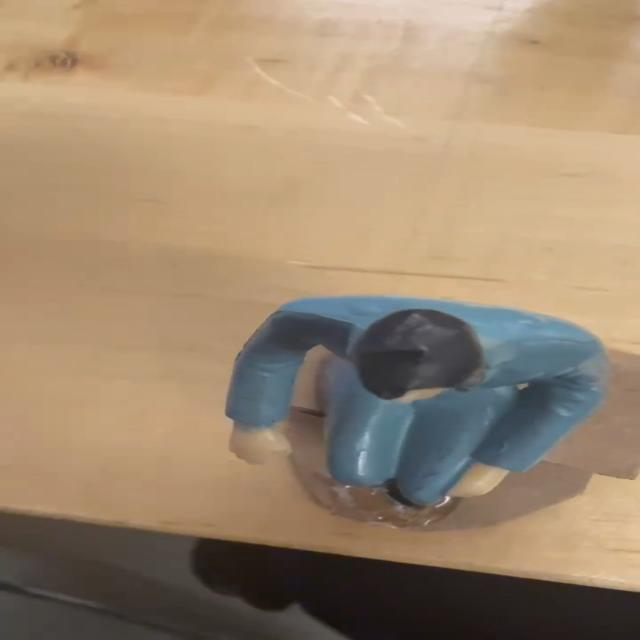Authorized: (206, 290, 616, 522)
